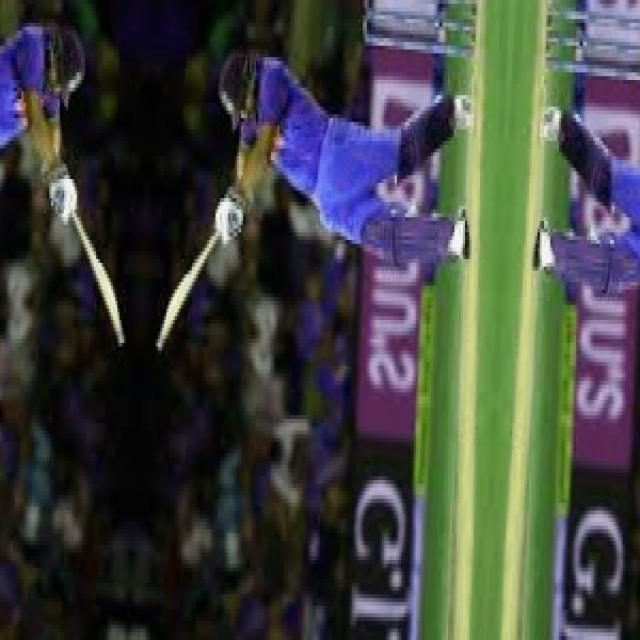toe: (152, 306, 174, 361)
